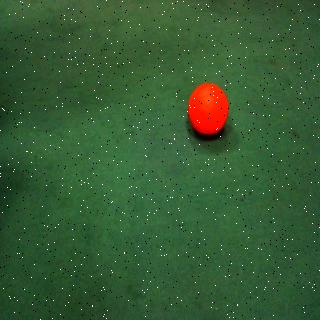orange: (186, 80, 232, 144)
